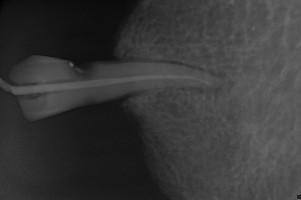Furcation Involvement: (187, 68, 234, 95)
